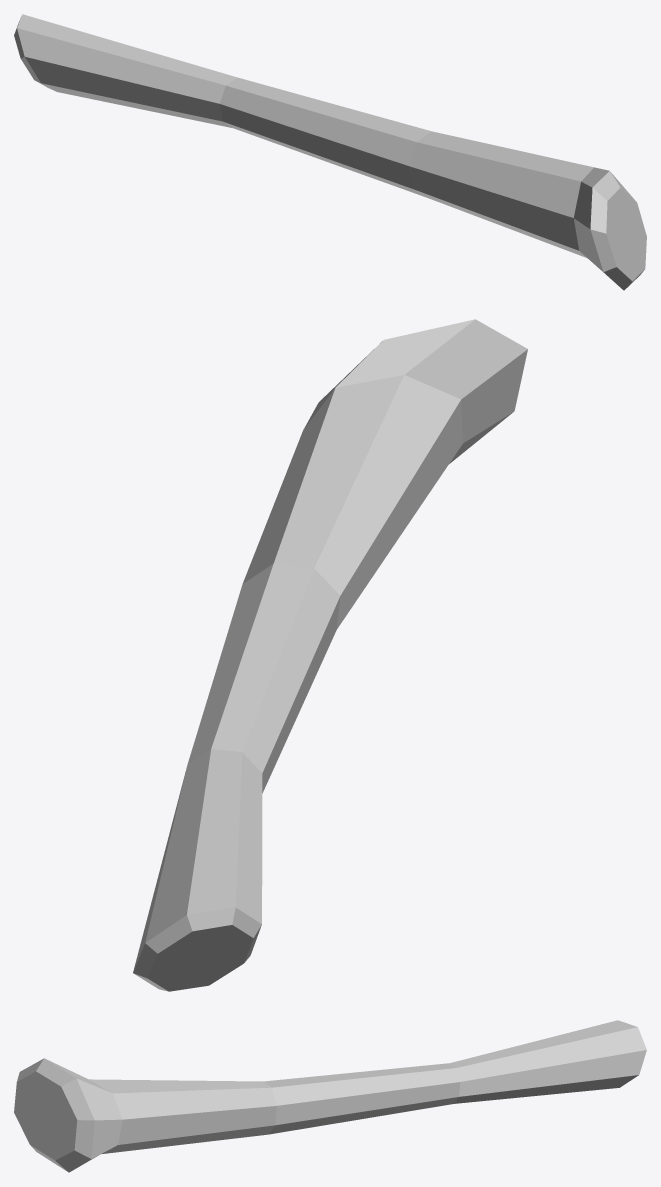
Rendered from Bone.fbx.
3 renders of one model, top to bottom at view 1: azimuth 30°, elevation 25°; view 2: azimuth 150°, elevation 25°; view 3: azimuth 270°, elevation 25°, orthographic. The views are drawn at different scales.
Visible parts, largest first — view 1: Bone; view 2: Bone; view 3: Bone.
Part boxes in pixels (bbox=[...]): Bone: bbox=[14, 14, 646, 290]; Bone: bbox=[133, 319, 527, 991]; Bone: bbox=[14, 1020, 646, 1172].
Bounding box in the file's own units: 19.81 × 7.59 × 46.84.
